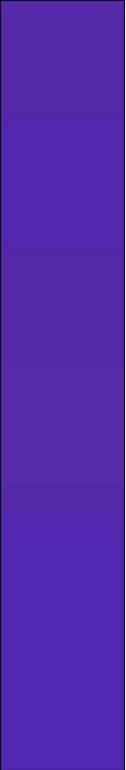safe: (5, 10, 121, 768)
